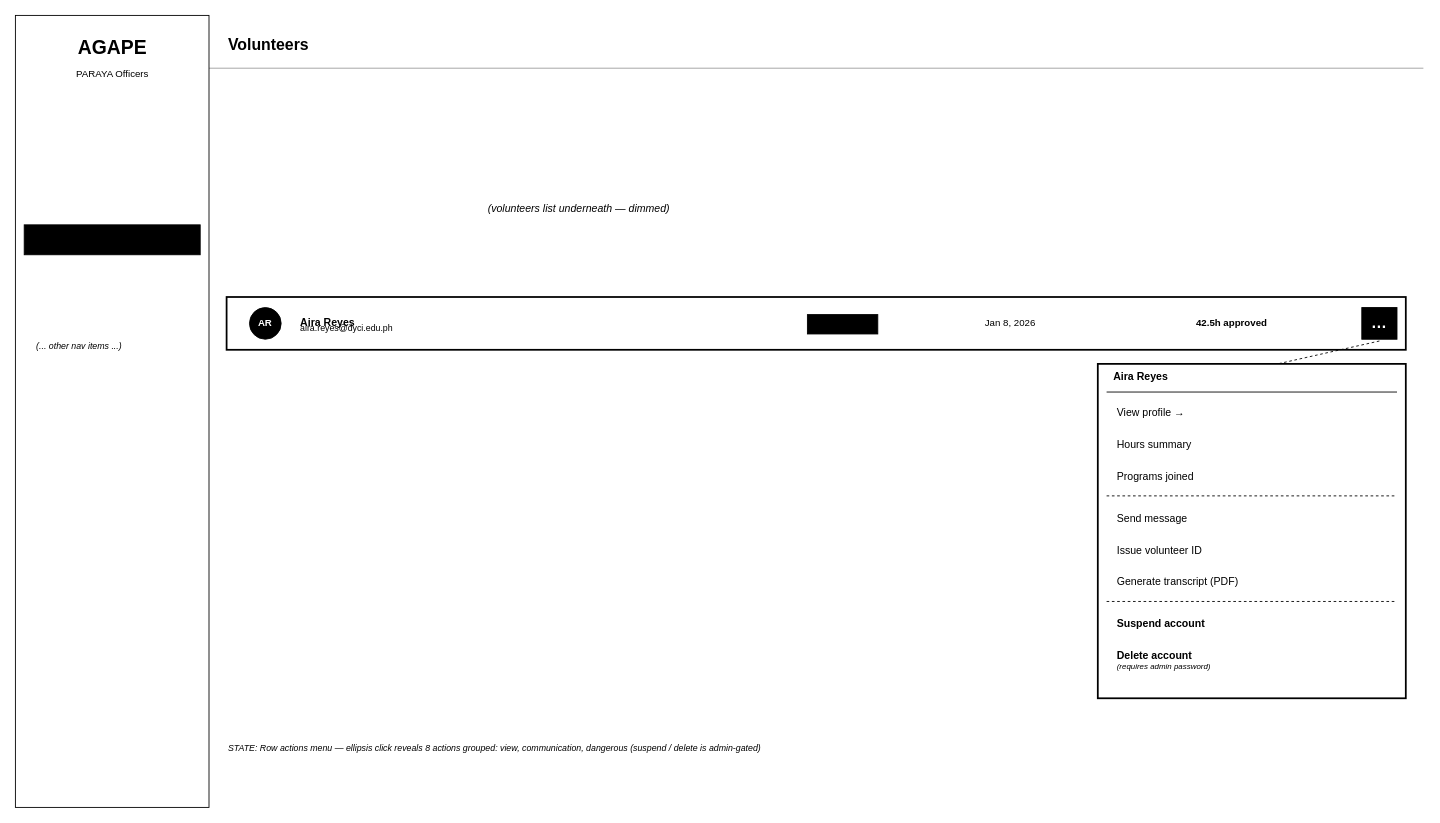
Some shapes in this 1440 by 823 pixel diagram are drawn without their labels. Each missing label, with the centre of its shape:
"( active )" goes at (x=842, y=324).
"[x] Volunteers" goes at (x=111, y=239).
